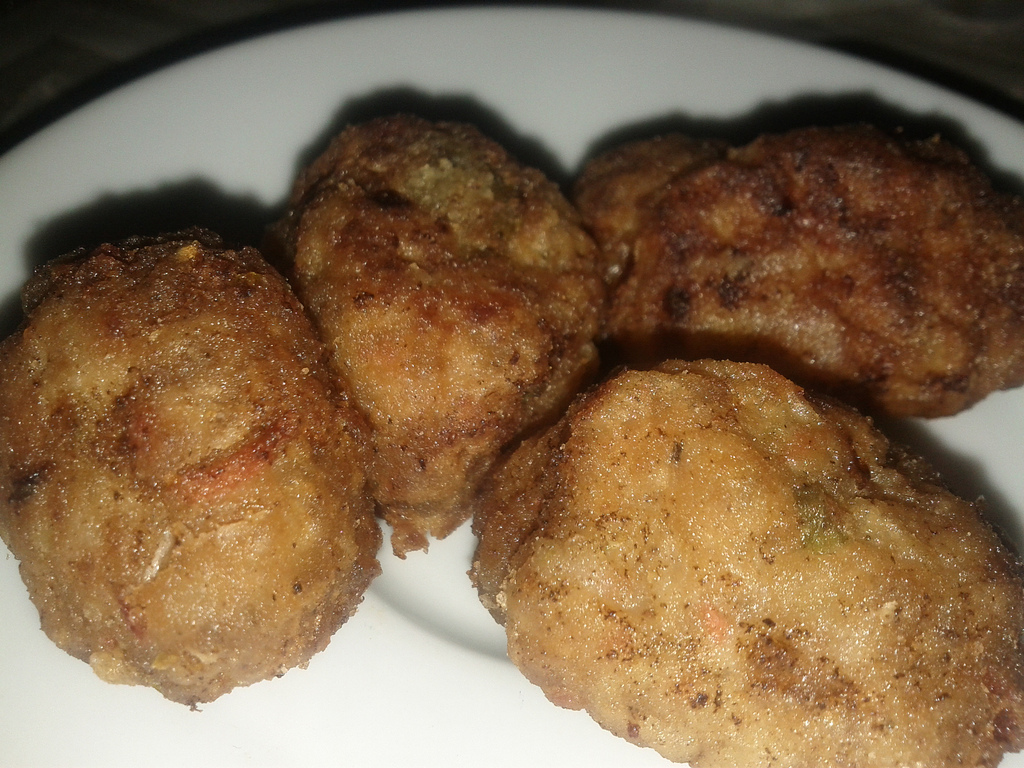meatballs: (523, 378, 999, 758), (12, 265, 339, 687), (305, 116, 593, 496), (588, 128, 1024, 370)
